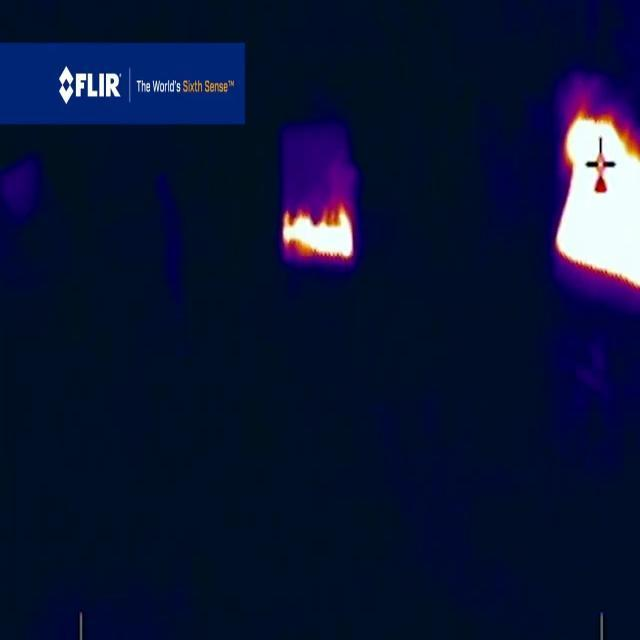fire: (554, 112, 640, 291), (282, 203, 357, 263)
